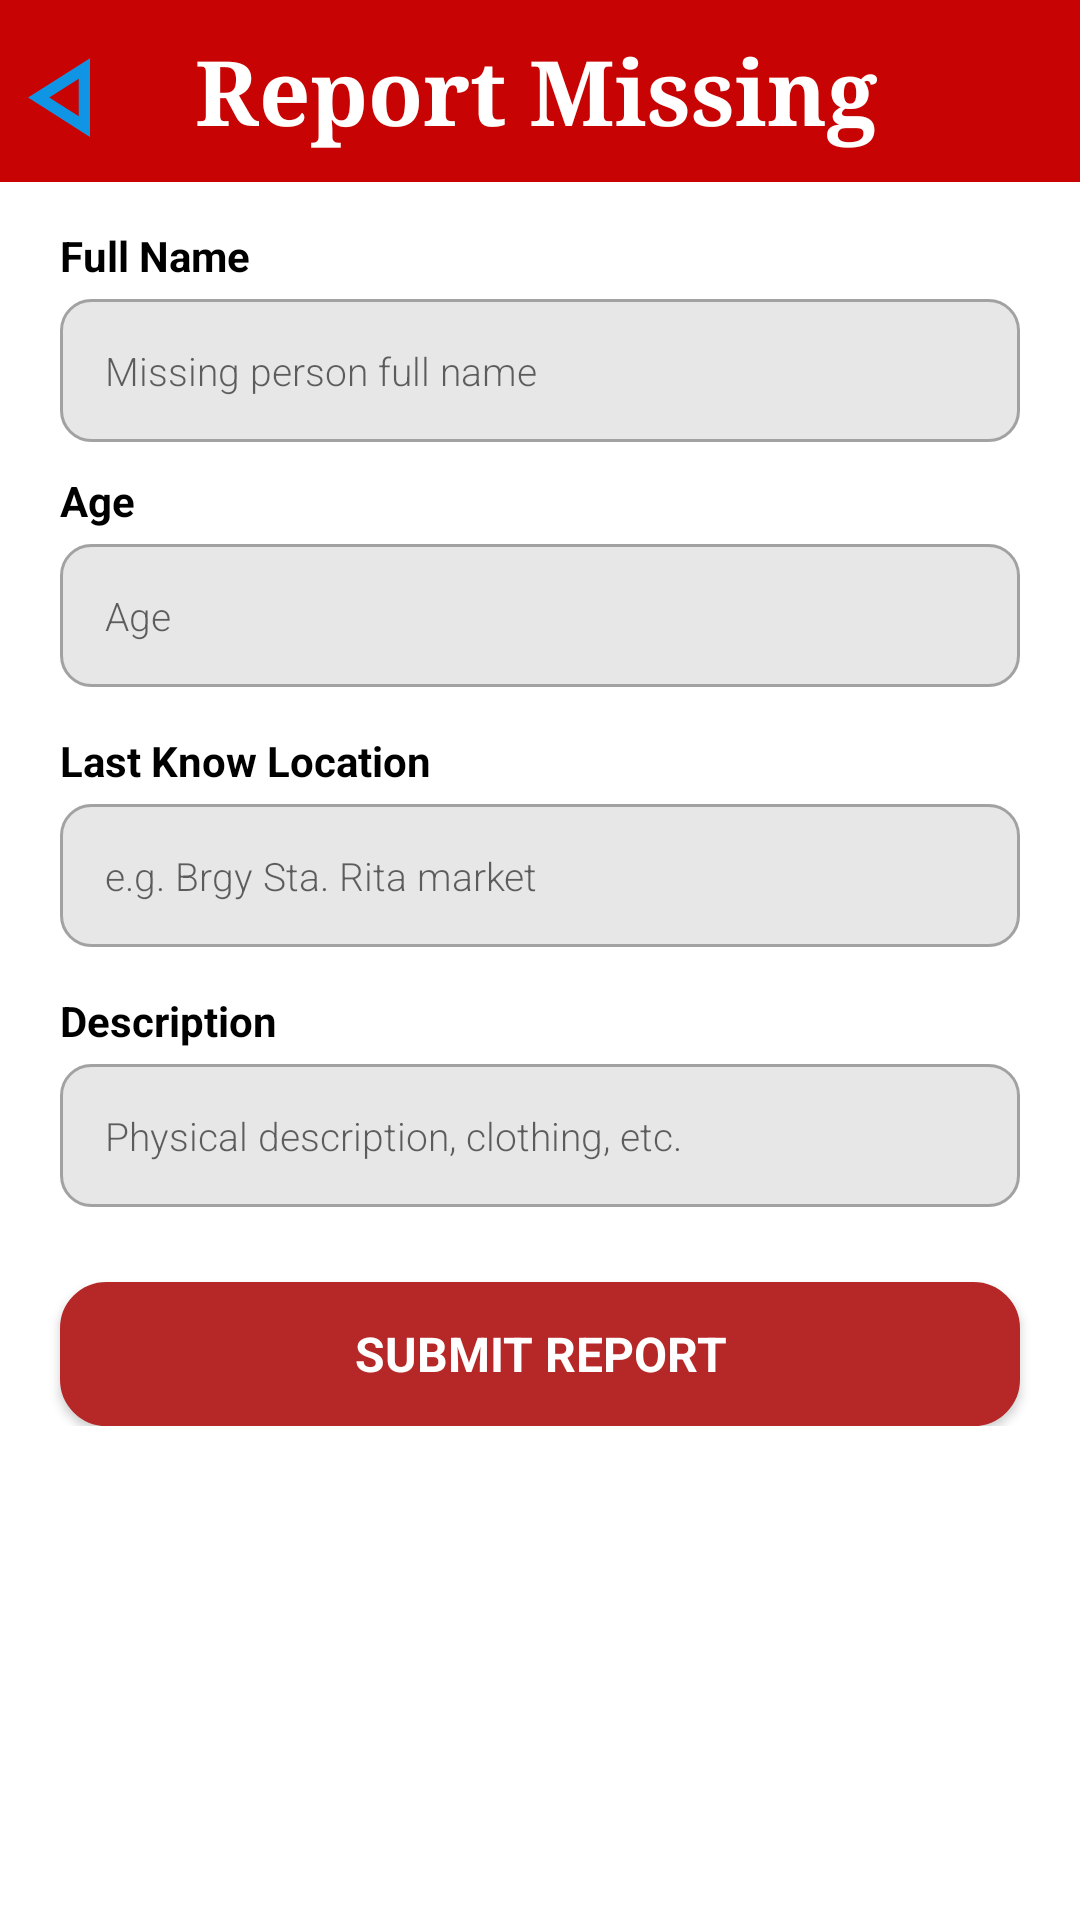

Screen size 1080 × 1920. Icon name, then its box in pixels as (x1, y1, x2, y2):
back: (28, 58, 90, 137)
